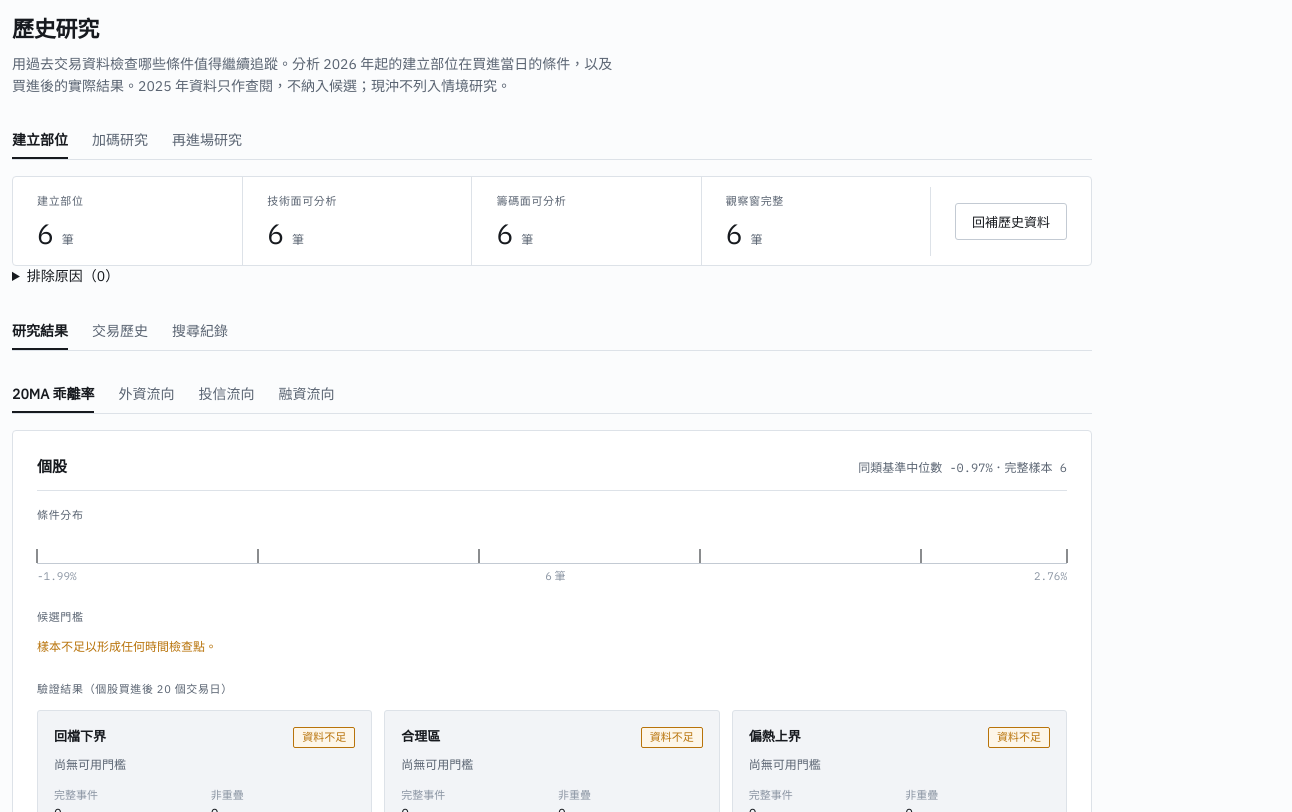
Test case: 搜尋紀錄分頁 › 研究執行後保存該次搜尋，並在紀錄中列出各指標與類別
The image size is (1292, 812).
Click the button "搜尋紀錄" at [200, 335], box [172,320,228,350]
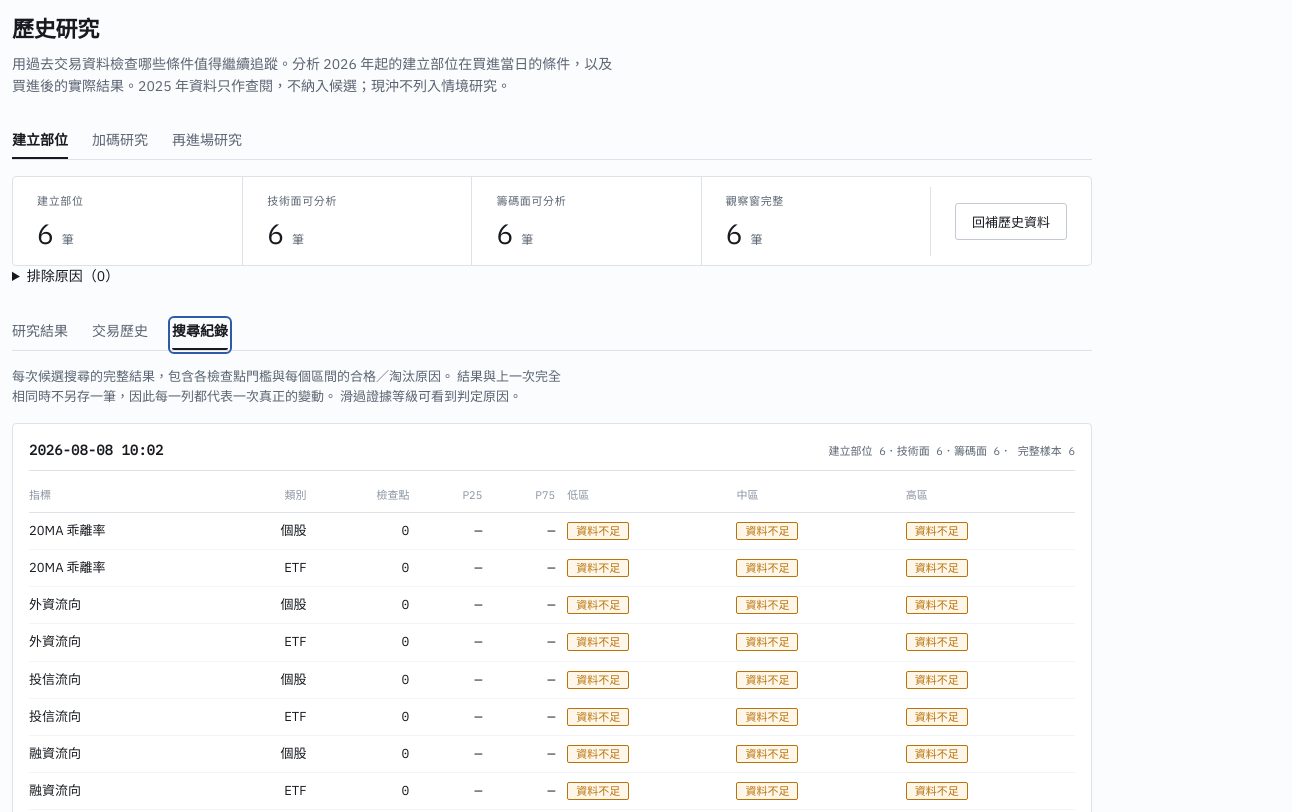
Check: the 1st text "20MA 乖離率" is shown, box [29,512,232,550]
Check: the 1st text "個股" is shown, box [232,512,318,550]
Check: the 1st text "ETF" is shown, box [232,550,318,587]
